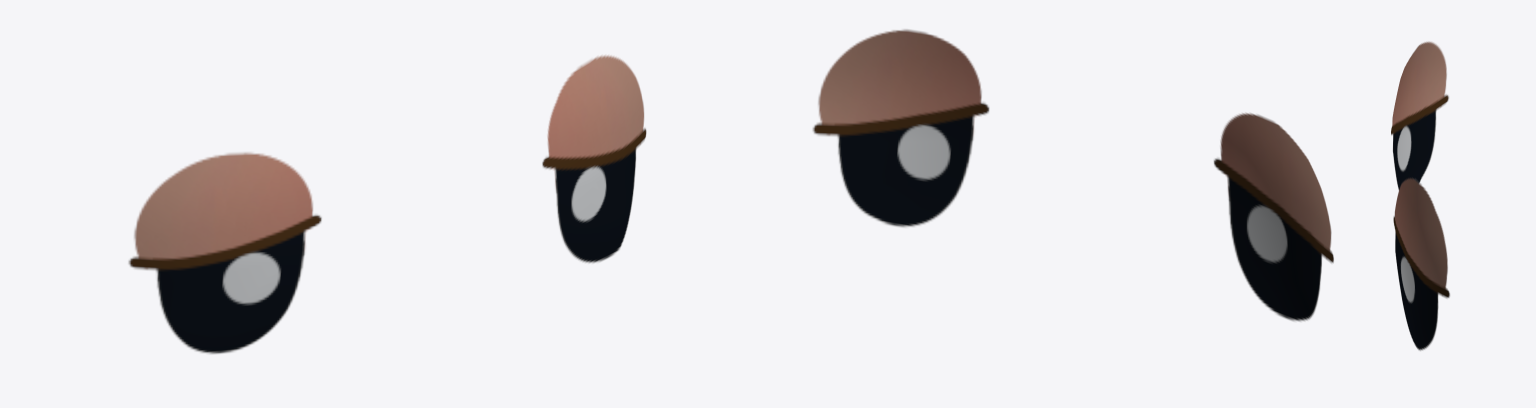
The model's file is eye 08.glb.
3 renders of one model, left to right at view 1: azimuth 30°, elevation 25°; view 2: azimuth 150°, elevation 25°; view 3: azimuth 270°, elevation 25°, orthographic. The views are drawn at different scales.
Parts seen in each view (by area): view 1: Eye_8; view 2: Eye_8; view 3: Eye_8.
Part boxes in pixels (box(x1,y1,x2,y2)): Eye_8: box(128, 55, 646, 354); Eye_8: box(812, 29, 1333, 321); Eye_8: box(1391, 41, 1449, 350).
Bounding box in the file's own units: 0.00677 × 0.00271 × 0.00151.
Materials: 1 (1 with a texture image).
